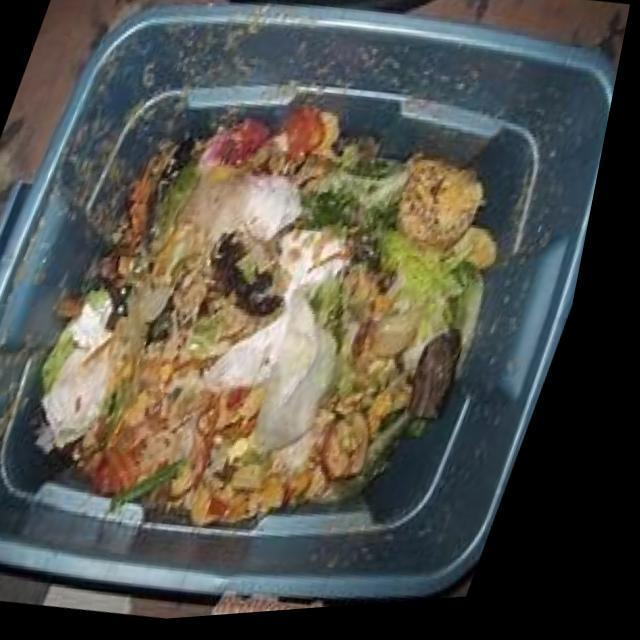Garbage: (52, 107, 512, 527)
Plastic_Bag: (272, 295, 353, 455)
